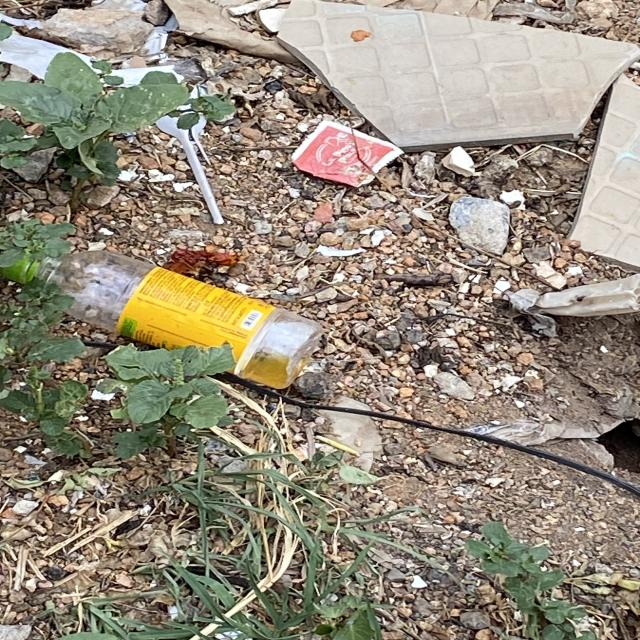chai_nhua: (36, 251, 323, 389)
giay_goi: (292, 120, 403, 186)
nhua: (155, 115, 223, 224)
